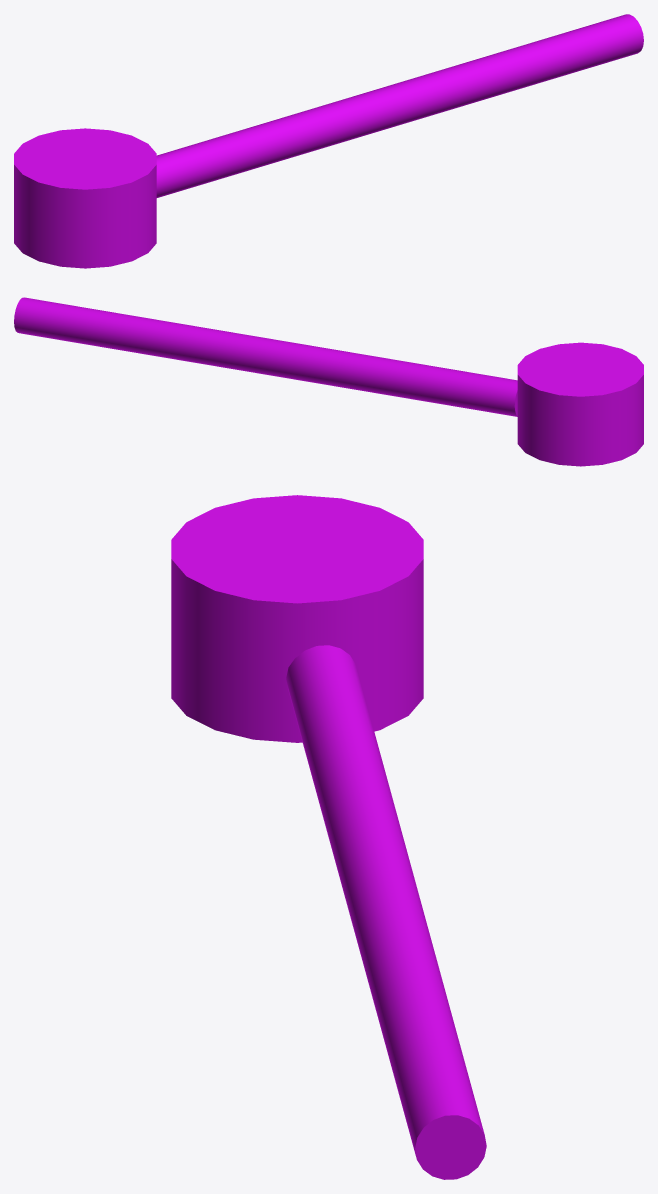
The model's file is FallGuysObstacle.FBX.
3 renders of one model, top to bottom at view 1: azimuth 30°, elevation 25°; view 2: azimuth 150°, elevation 25°; view 3: azimuth 270°, elevation 25°, orthographic. The views are drawn at different scales.
Visible parts, largest first — view 1: Cylinder004, Cylinder003; view 2: Cylinder004, Cylinder003; view 3: Cylinder003, Cylinder004.
Boxes of the visible parts, x1=… form: Cylinder004: x1=156, y1=14, x2=643, y2=197; Cylinder003: x1=14, y1=128, x2=156, y2=268; Cylinder004: x1=14, y1=297, x2=517, y2=416; Cylinder003: x1=517, y1=342, x2=643, y2=466; Cylinder003: x1=171, y1=495, x2=423, y2=742; Cylinder004: x1=286, y1=645, x2=486, y2=1179.
Bounding box in the file's own units: 156 × 18 × 36.91.
